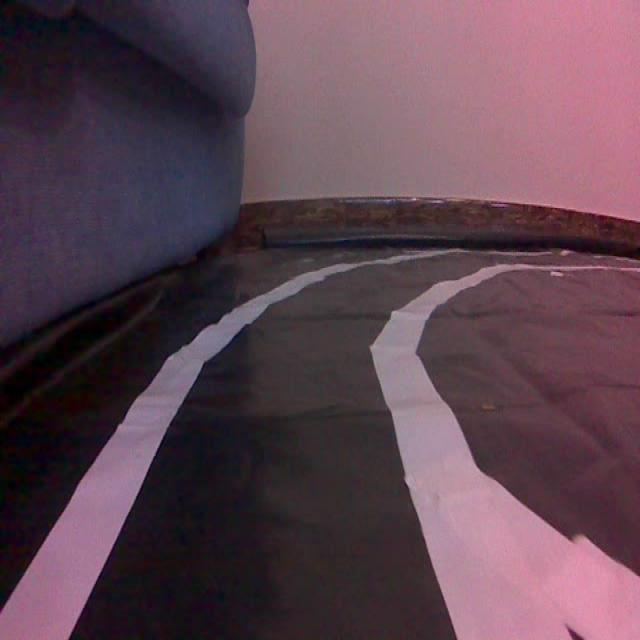LineaCarril: (0, 254, 436, 638), (371, 263, 640, 638)
